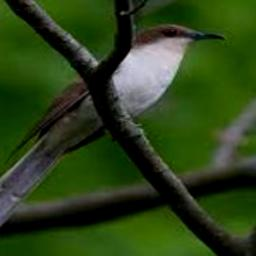Cuckoo: (0, 23, 226, 249)
